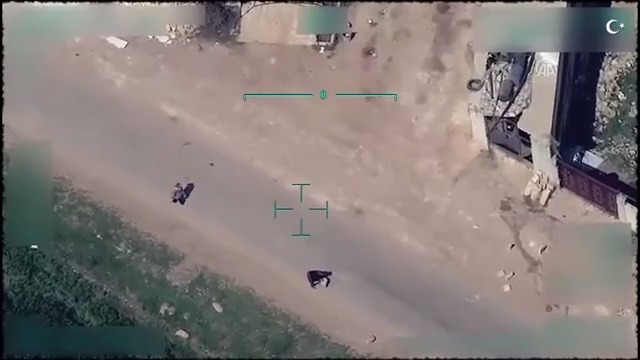insan: (307, 266, 335, 294), (167, 179, 190, 209)
